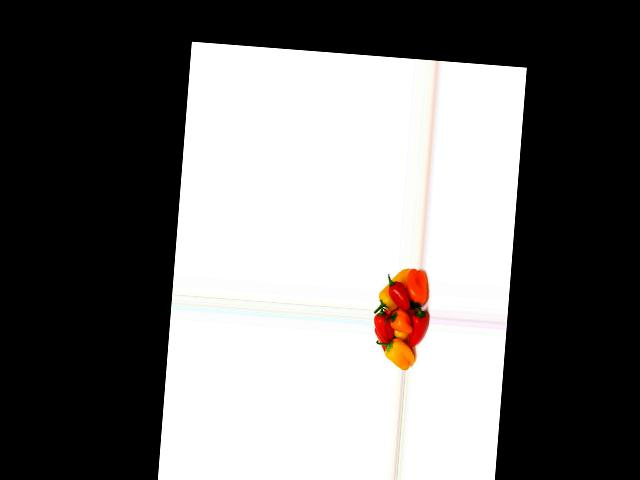bell_pepper: (375, 267, 409, 312)
